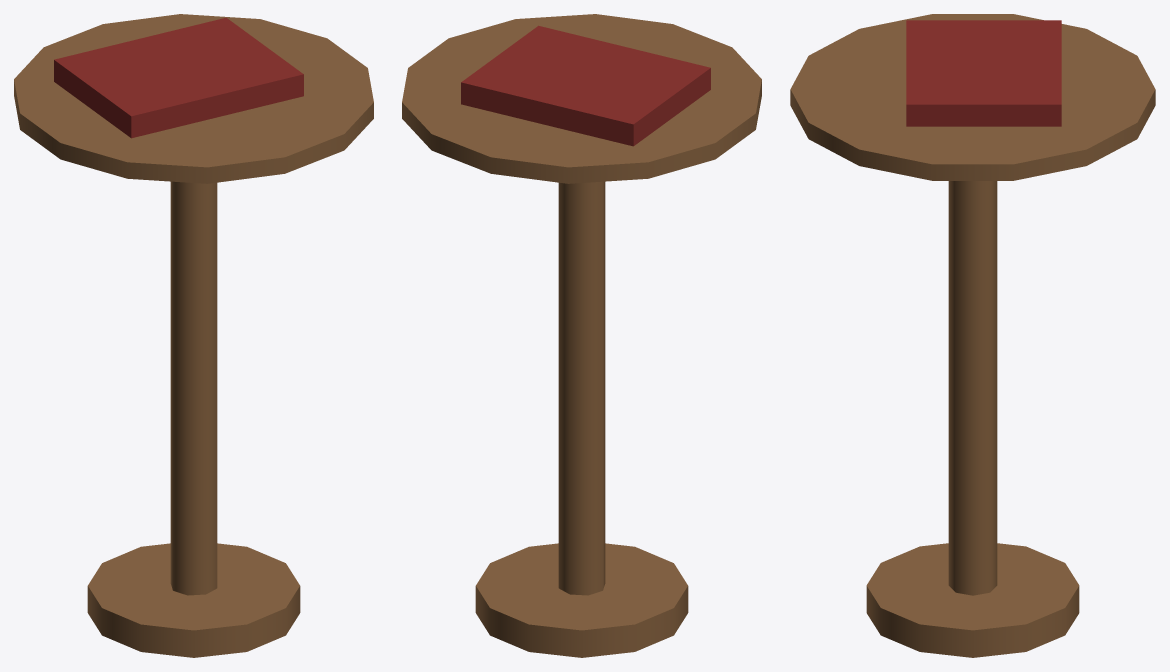
The model's file is round-table.glb.
3 renders of one model, left to right at view 1: azimuth 30°, elevation 25°; view 2: azimuth 150°, elevation 25°; view 3: azimuth 270°, elevation 25°, orthographic.
Parts seen in each view (by area): view 1: round-table; view 2: round-table; view 3: round-table.
Boxes of the visible parts, x1,y1,x2,y2 form: round-table: (14,14,373,657); round-table: (402,14,761,657); round-table: (790,14,1155,657).
Size of the model in its own units: 1.17 by 1.98 by 1.2.
